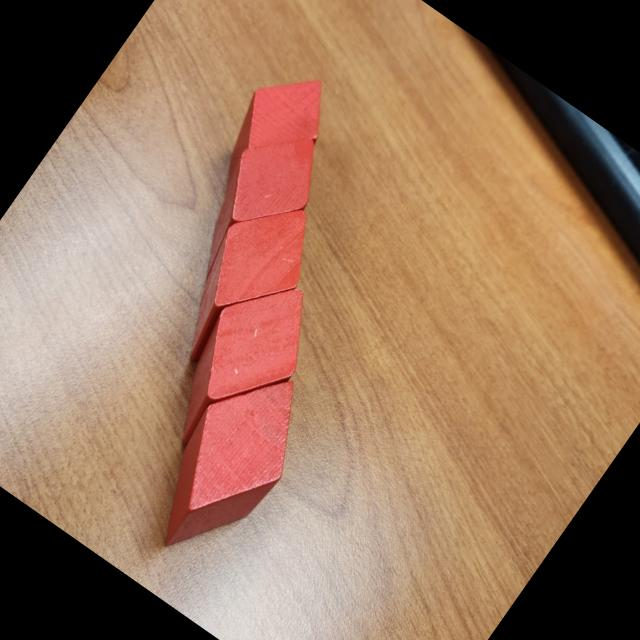red: (124, 348, 330, 579), (142, 257, 336, 475), (150, 178, 336, 388), (169, 109, 342, 304), (197, 52, 348, 218)
